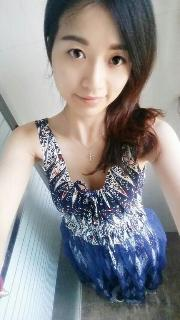vest: (35, 108, 167, 304)
